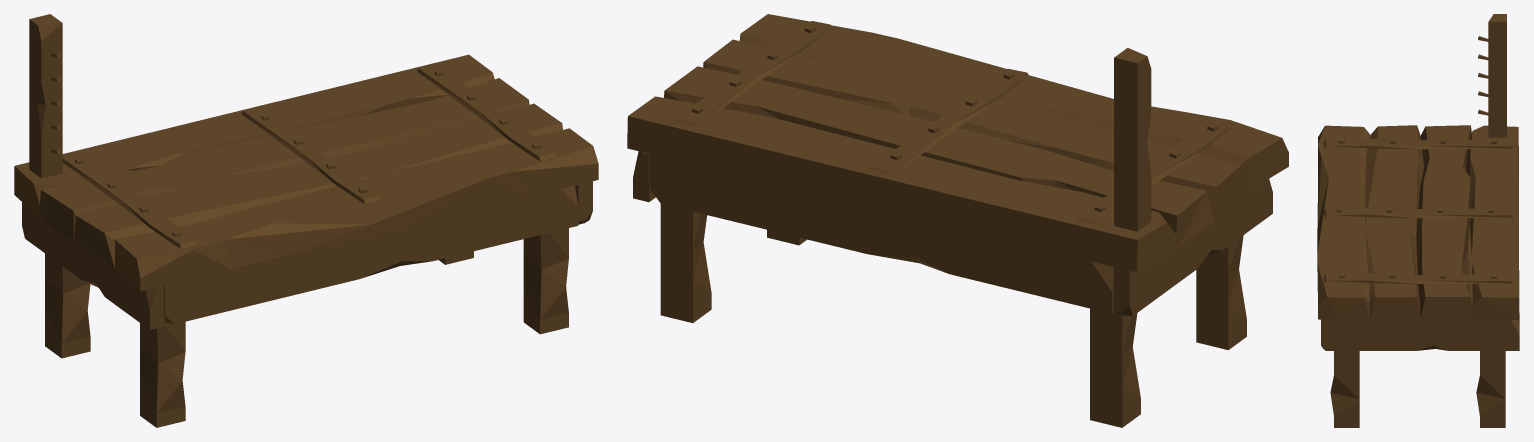
File: workbench.fbx
3 views of the same model, side by side, from view 1: azimuth 30°, elevation 25°; view 2: azimuth 150°, elevation 25°; view 3: azimuth 270°, elevation 25° (orthographic). The views are drawn at different scales.
Visible parts, largest first — view 1: workbench; view 2: workbench; view 3: workbench.
Part boxes in pixels (x1,y1,x2,y2): workbench: (14, 14, 598, 427); workbench: (627, 14, 1288, 427); workbench: (1317, 14, 1519, 427).
Size of the model in its own units: 239 by 164 by 118.
